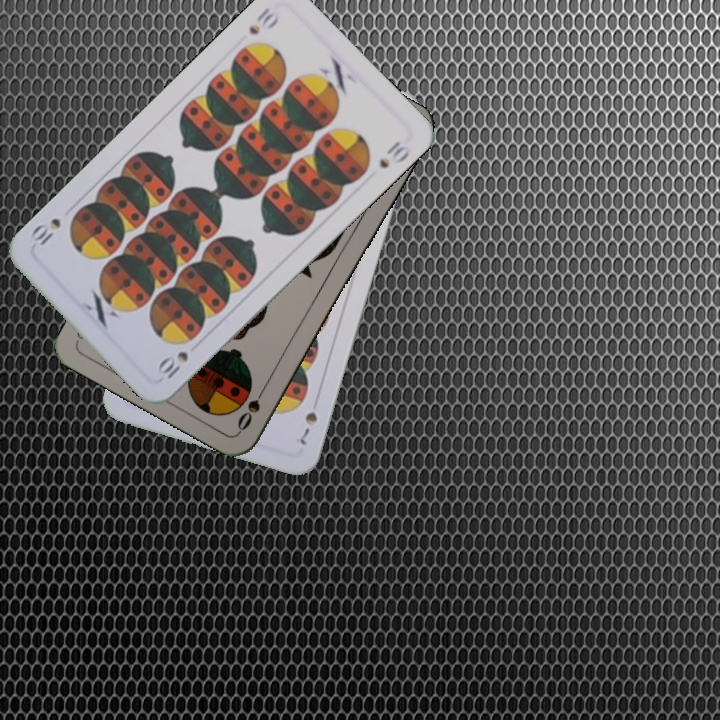S10: (244, 3, 282, 38), (156, 347, 191, 382)
S7: (295, 407, 320, 448)
SO: (233, 379, 270, 434)
